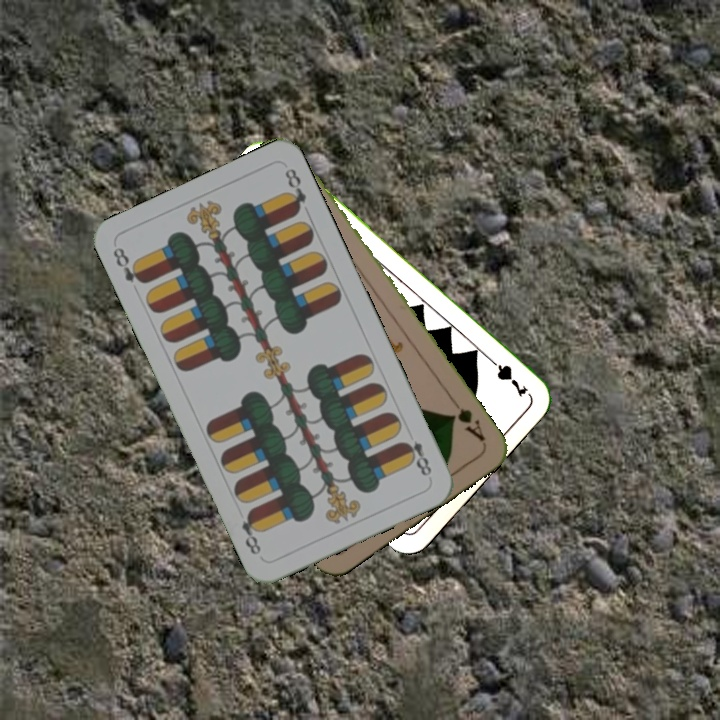E8: (109, 243, 149, 287), (398, 436, 435, 479)
G7: (482, 351, 531, 401)
GA: (446, 394, 488, 445)
